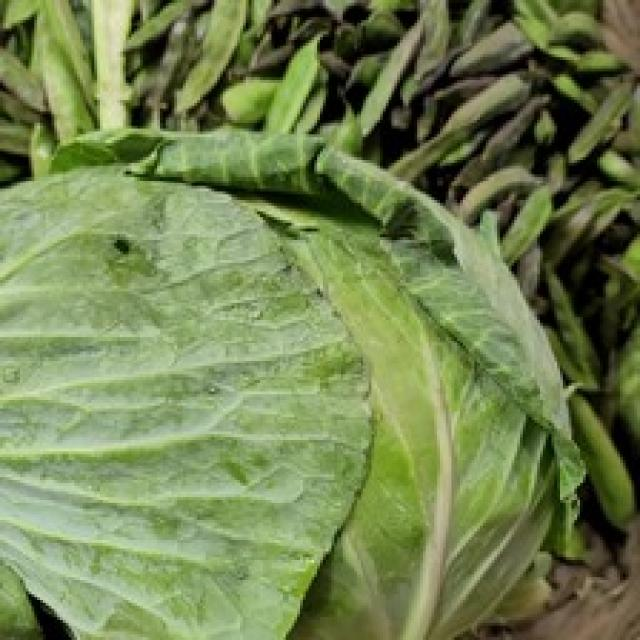Cabbage: (0, 124, 587, 640)
